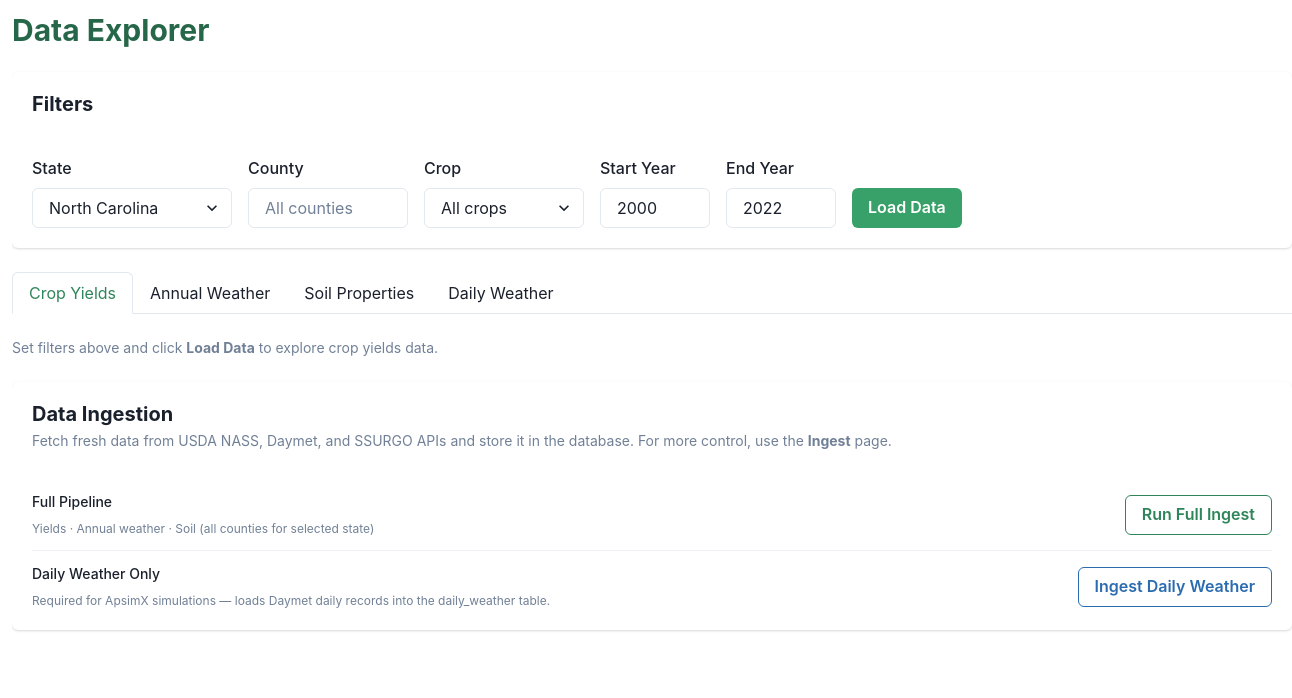
Scenario: Data Explorer – loading data › shows Ingest Daily Weather button when daily weather tab is empty
Step 1. Click the tab "Daily Weather" → (501, 293), box x1=431 y1=272 x2=571 y2=314
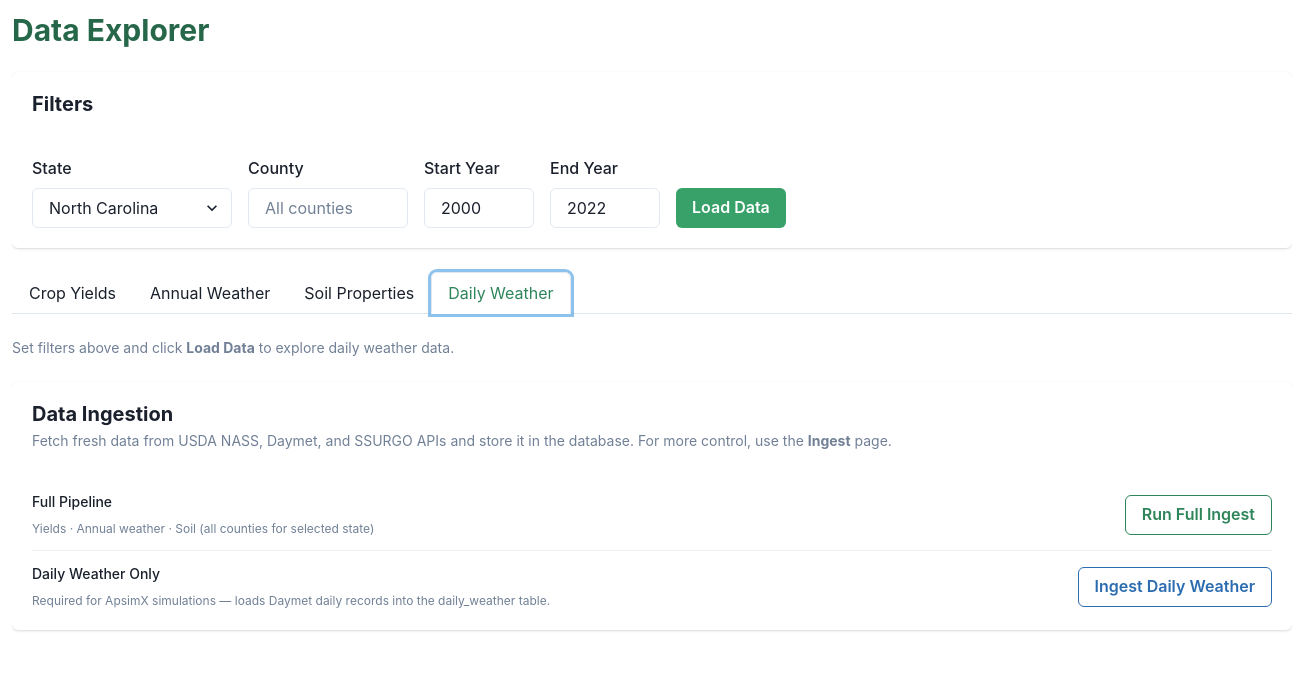
Step 2. Click the button "Load Data" → (731, 208), box x1=676 y1=188 x2=786 y2=228
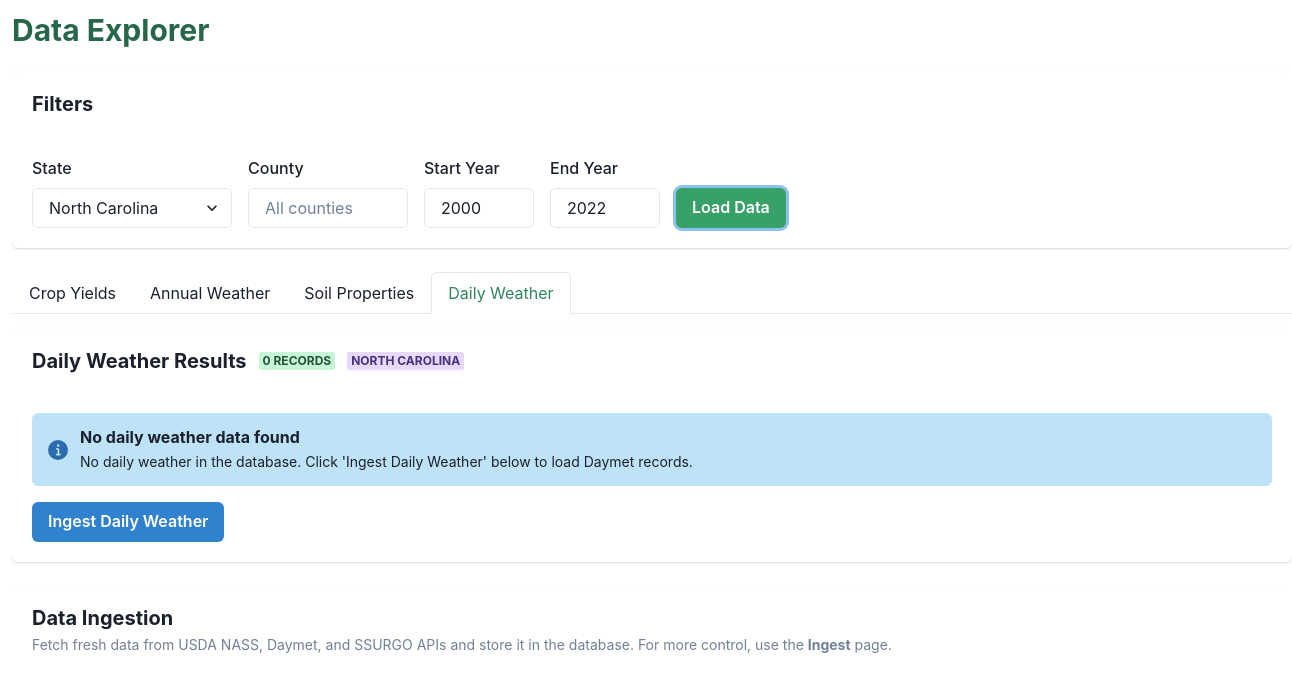
Now the text "No daily weather data found" is shown, box x1=80 y1=427 x2=300 y2=447
